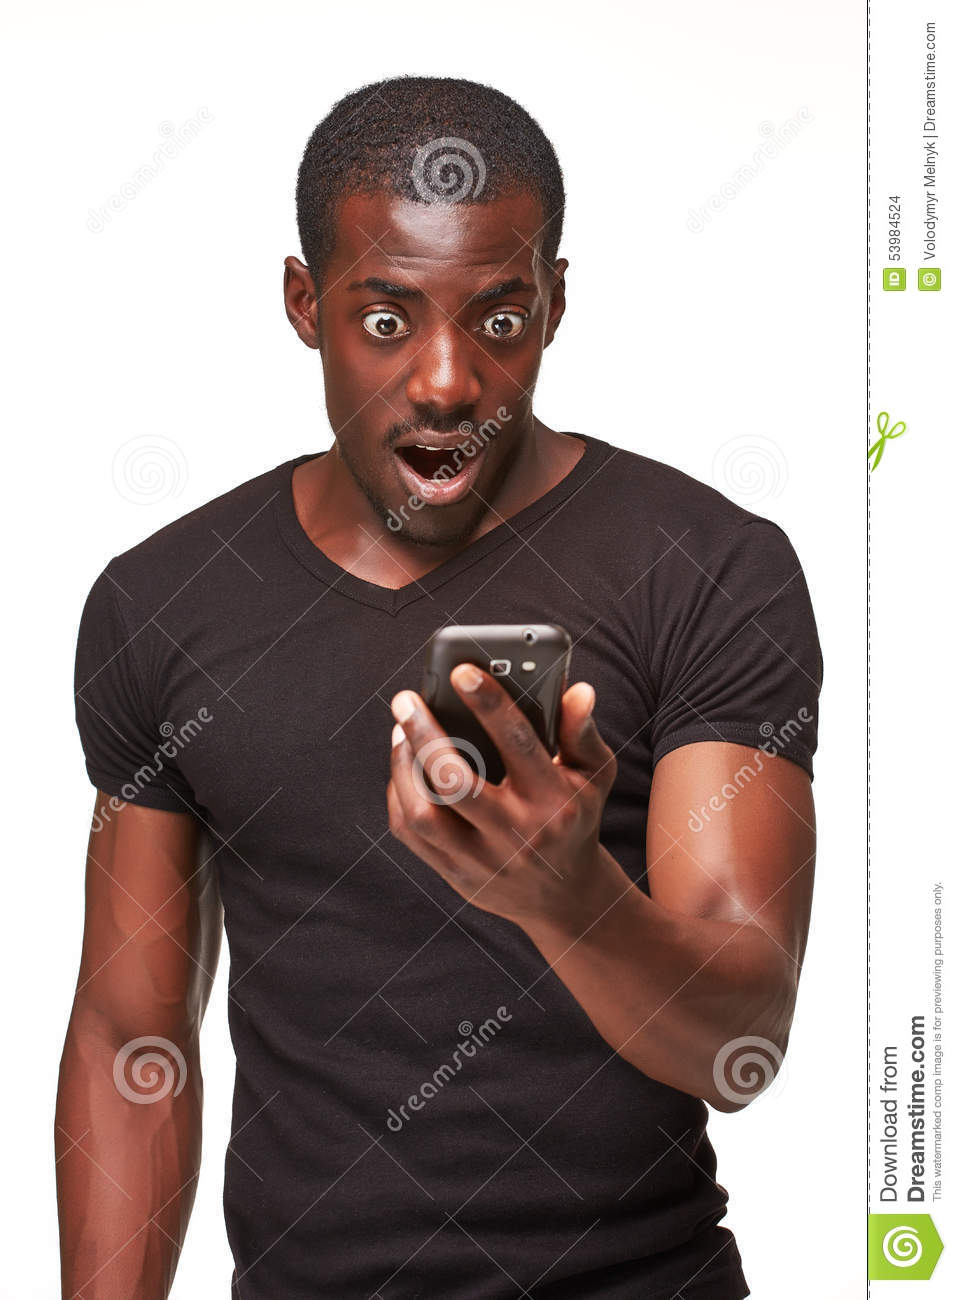phone: (420, 629, 571, 806)
